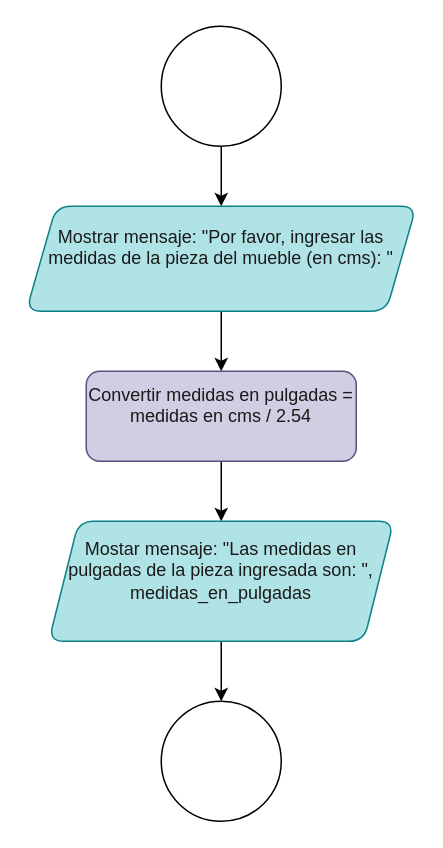
This 443x848 diagram has some shape labels left out. The centre of each missing label's shape, as x and y in pixels:
"Fin" goes at (x=220, y=760).
"Inicio" goes at (x=220, y=85).
